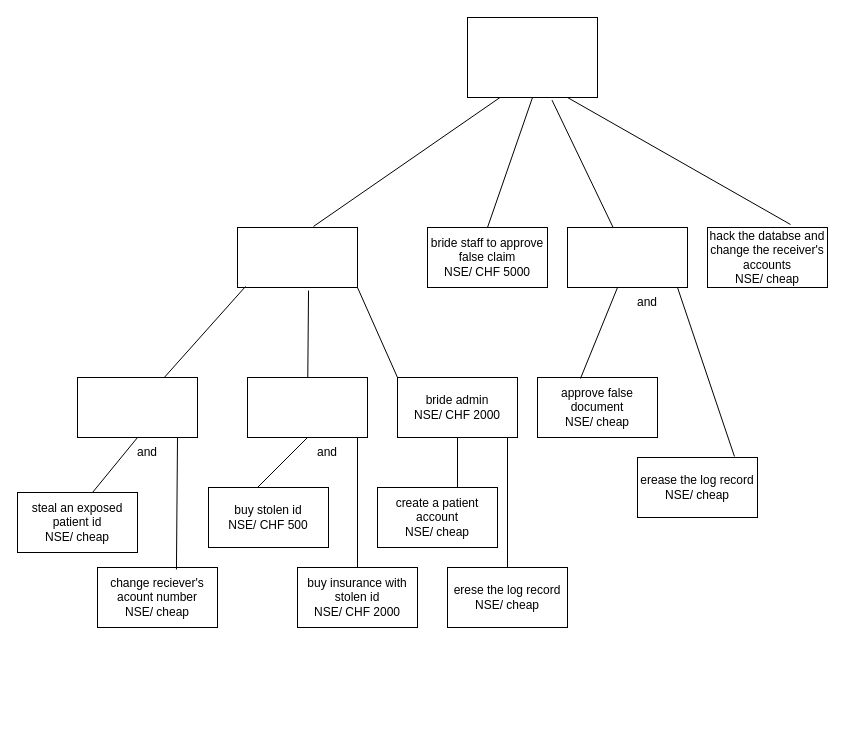
Some shapes in this 845 by 745 pixel diagram are drawn without their labels. The box of each missing label's shape, as (x1, y1, x2, y2) in pixels:
create new patient account NSE/ CHF 2500: (246, 376, 368, 438)
fake a patient id NSE/ cheap: (236, 226, 358, 288)
Get money as an attacker instead of as a patient: (466, 16, 598, 98)
hack Document Assssment Application NSE/ cheap: (566, 226, 688, 288)
hack existing patient's id NSE/ cheap: (76, 376, 198, 438)
